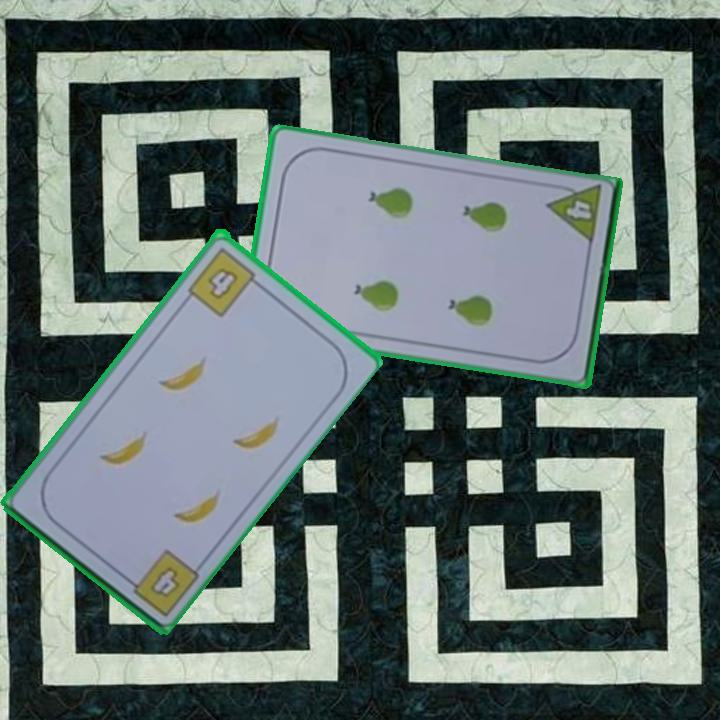4b: (184, 243, 265, 319), (146, 562, 183, 600)
4p: (544, 180, 604, 248)
